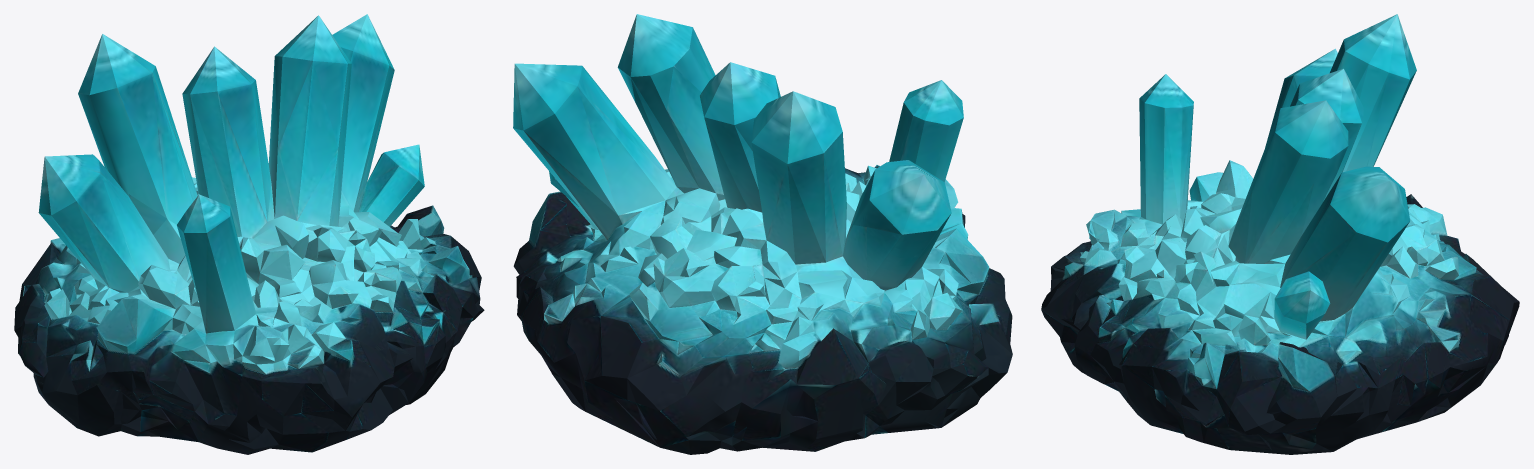
File: crystal_cluster.glb
3 views of the same model, side by side, from view 1: azimuth 30°, elevation 25°; view 2: azimuth 150°, elevation 25°; view 3: azimuth 270°, elevation 25° (orthographic). The views are drawn at different scales.
Size of the model in its own units: 1.9 by 1.35 by 1.85.
Materials: 1 (1 with a texture image).
